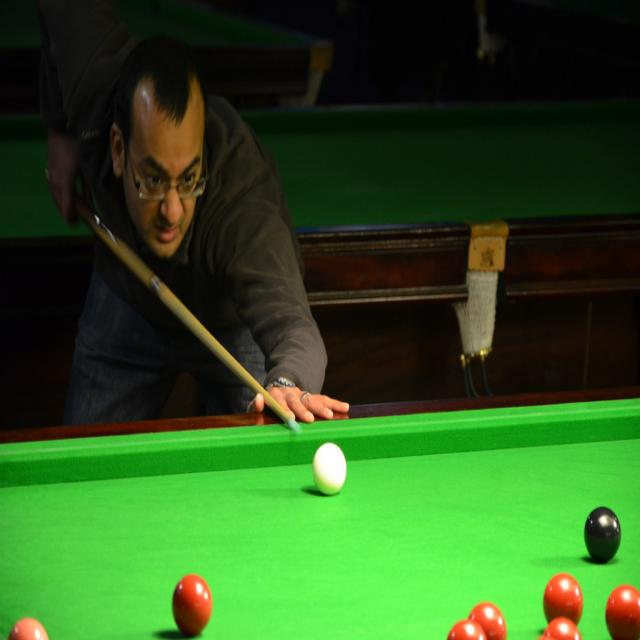Ball: (172, 575, 212, 635), (584, 505, 621, 565), (544, 573, 584, 621), (605, 585, 640, 639), (313, 441, 345, 494), (466, 606, 506, 640), (9, 618, 47, 640), (448, 622, 489, 640), (546, 618, 580, 639)
Billiard table: (3, 101, 639, 392), (0, 385, 639, 639), (0, 0, 334, 105)
